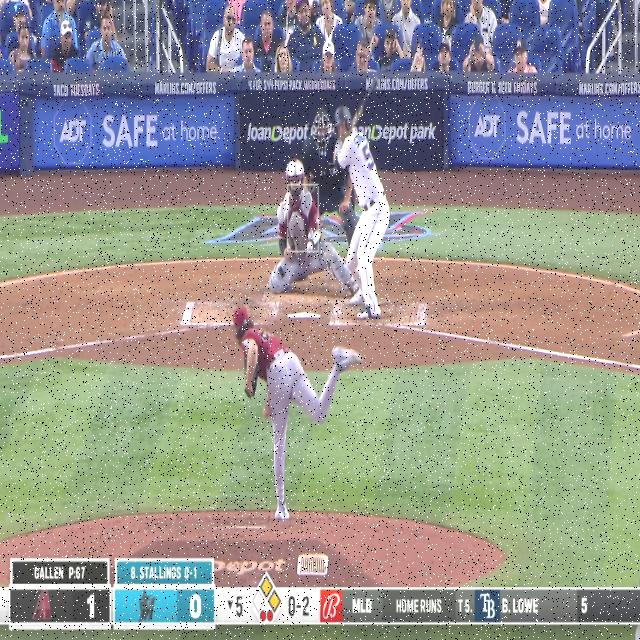baseball: (306, 240, 313, 254)
